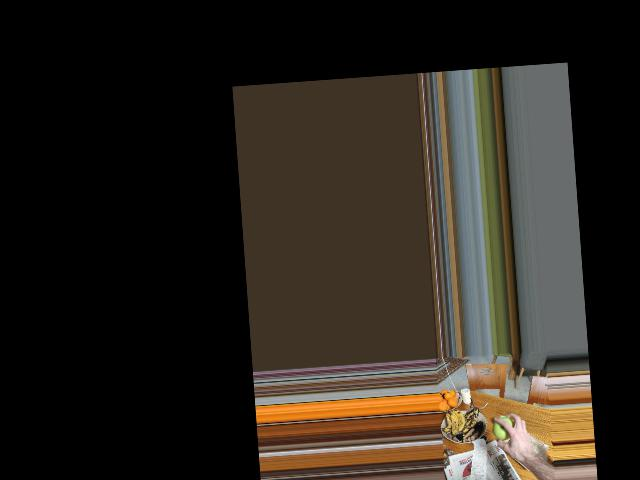apple: (492, 415, 515, 442)
